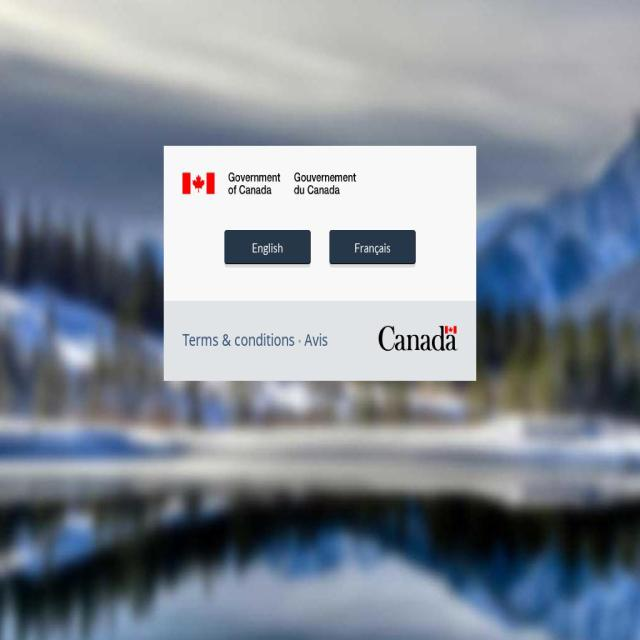button: (224, 229, 310, 264), (330, 229, 416, 264)
image: (182, 172, 360, 195), (378, 326, 458, 352)
link: (183, 328, 295, 352), (304, 328, 328, 352)
